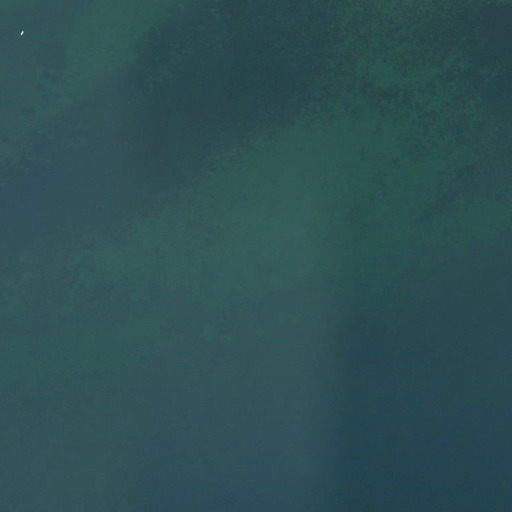ship: (18, 29, 24, 38)
